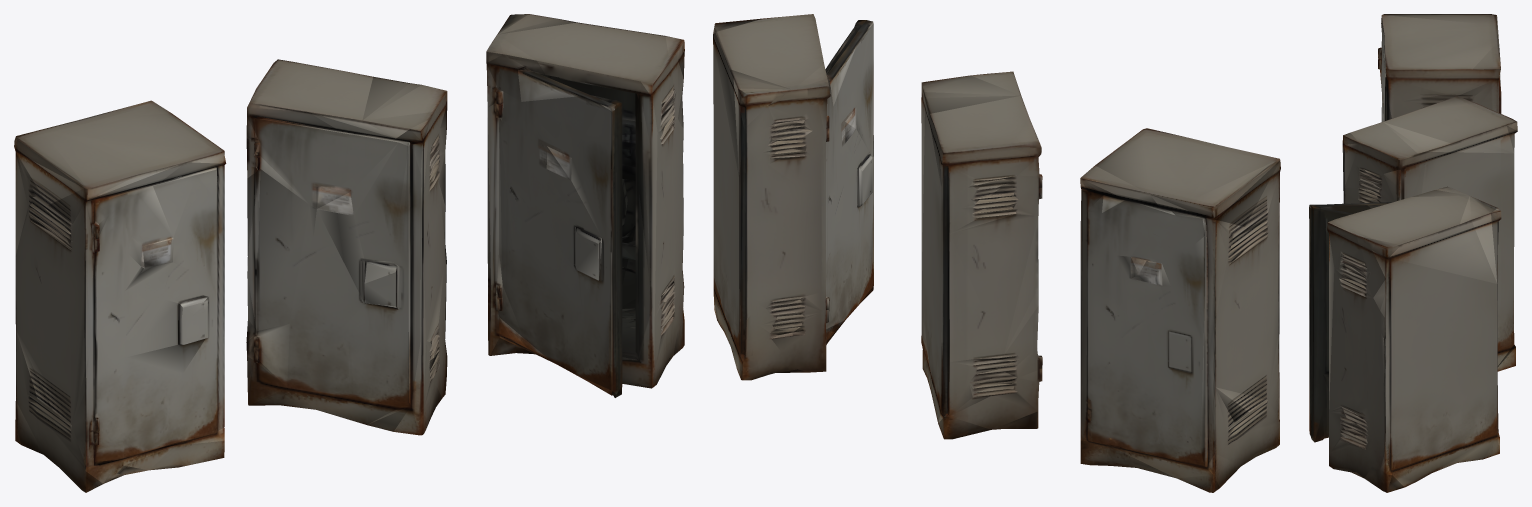
Rendered from ELECTIC CABINET.fbx.
The picture shows the model from 3 angles, left to right: view 1: azimuth 30°, elevation 25°; view 2: azimuth 150°, elevation 25°; view 3: azimuth 270°, elevation 25°; orthographic projection. The views are drawn at different scales.
Parts seen in each view (by area): view 1: polySurface2, polySurface4, polySurface1; view 2: polySurface2, polySurface1, polySurface4; view 3: polySurface1, polySurface4, polySurface2.
Boxes of the visible parts, box(x1,y1,x2,y2) form: polySurface2: box(14, 100, 226, 492); polySurface4: box(246, 59, 447, 435); polySurface1: box(486, 14, 684, 397); polySurface2: box(1080, 128, 1280, 492); polySurface1: box(713, 14, 873, 380); polySurface4: box(921, 71, 1042, 439); polySurface1: box(1309, 186, 1501, 492); polySurface4: box(1342, 96, 1517, 371); polySurface2: box(1378, 14, 1501, 121).
Bounding box in the file's own units: 1.05 × 0.5067 × 0.3921.
1 material, 1 textured.
